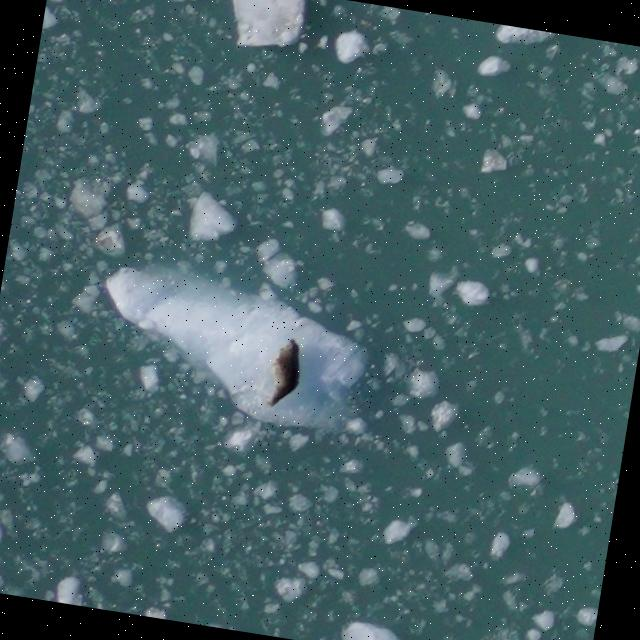seal: (261, 331, 311, 415)
